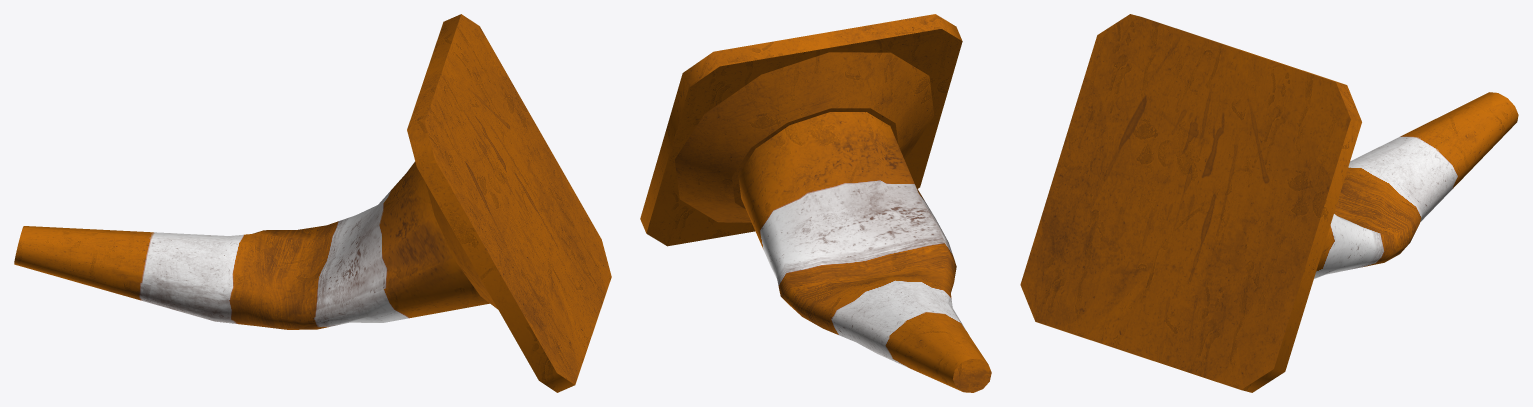
Rendered from Asset#2.fbx.
The picture shows the model from 3 angles, left to right: view 1: azimuth 30°, elevation 25°; view 2: azimuth 150°, elevation 25°; view 3: azimuth 270°, elevation 25°; orthographic projection. The views are drawn at different scales.
Visible parts, largest first — view 1: Bottom_LP_Plane.001, Top_LP_Circle.000, Middle_LP_Circle.000; view 2: Top_LP_Circle.000, Middle_LP_Circle.000, Bottom_LP_Plane.001; view 3: Bottom_LP_Plane.001, Top_LP_Circle.000.
Part boxes in pixels (bbox=[...]): Bottom_LP_Plane.001: bbox=[407, 14, 611, 392]; Top_LP_Circle.000: bbox=[14, 161, 489, 329]; Middle_LP_Circle.000: bbox=[426, 184, 497, 309]; Top_LP_Circle.000: bbox=[738, 112, 991, 392]; Middle_LP_Circle.000: bbox=[674, 52, 934, 222]; Bottom_LP_Plane.001: bbox=[640, 14, 962, 246]; Bottom_LP_Plane.001: bbox=[1020, 14, 1361, 392]; Top_LP_Circle.000: bbox=[1314, 92, 1518, 278].
Size of the model in its own units: 197 by 102 by 174.
1 material, 1 textured.
